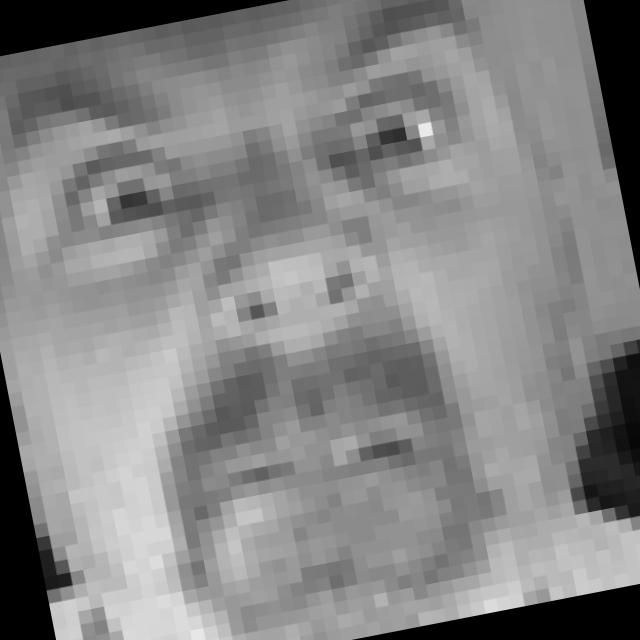angry: (0, 0, 569, 599)
